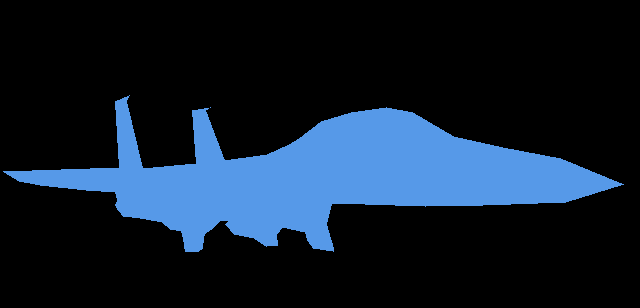Airplane: (3, 95, 624, 251)
